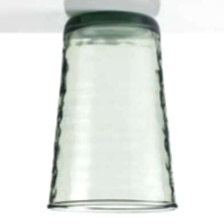glass: (40, 7, 194, 218)
